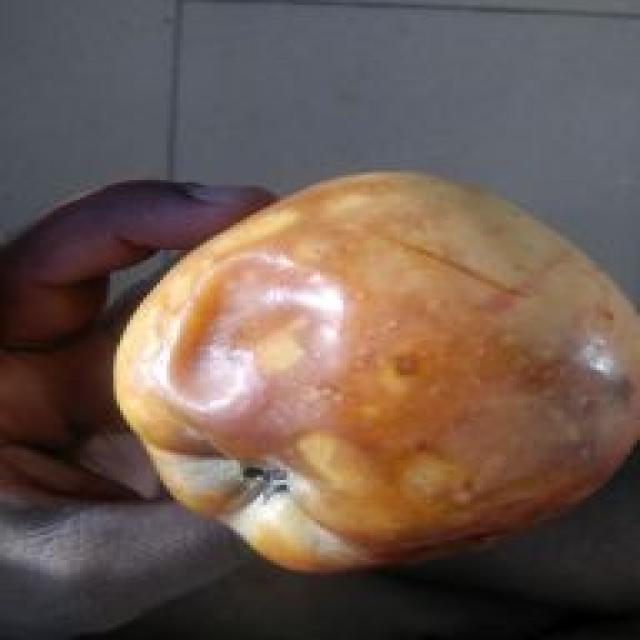Bad_Apple: (115, 172, 638, 571)
